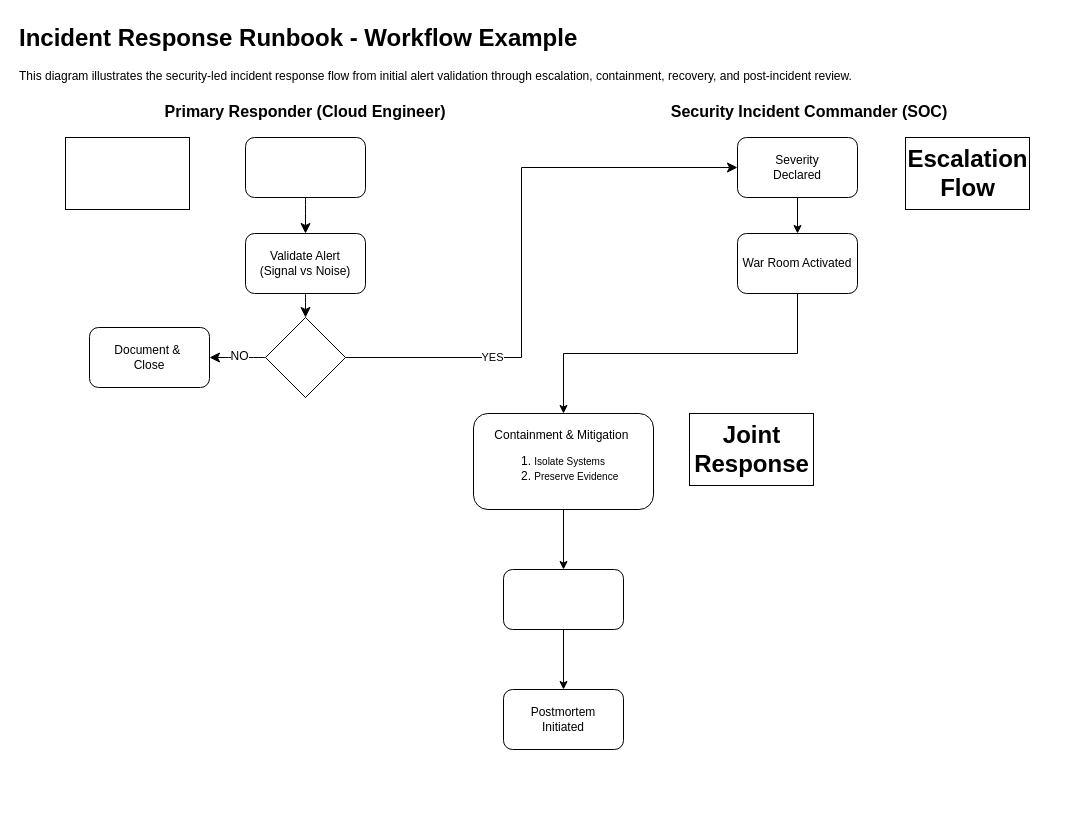
Some shapes in this 1066 by 838 pixel diagram are drawn without their labels. The shapes that lost their labels are listed below. From the top down, each one's centre as x and y in pixels, then its label:
At pixel 127 173: "Core Flow".
At pixel 305 167: "Security Alert Triggered".
At pixel 305 357: "Legitimate Threat?".
At pixel 563 599: "Recovery & Monitoring".
